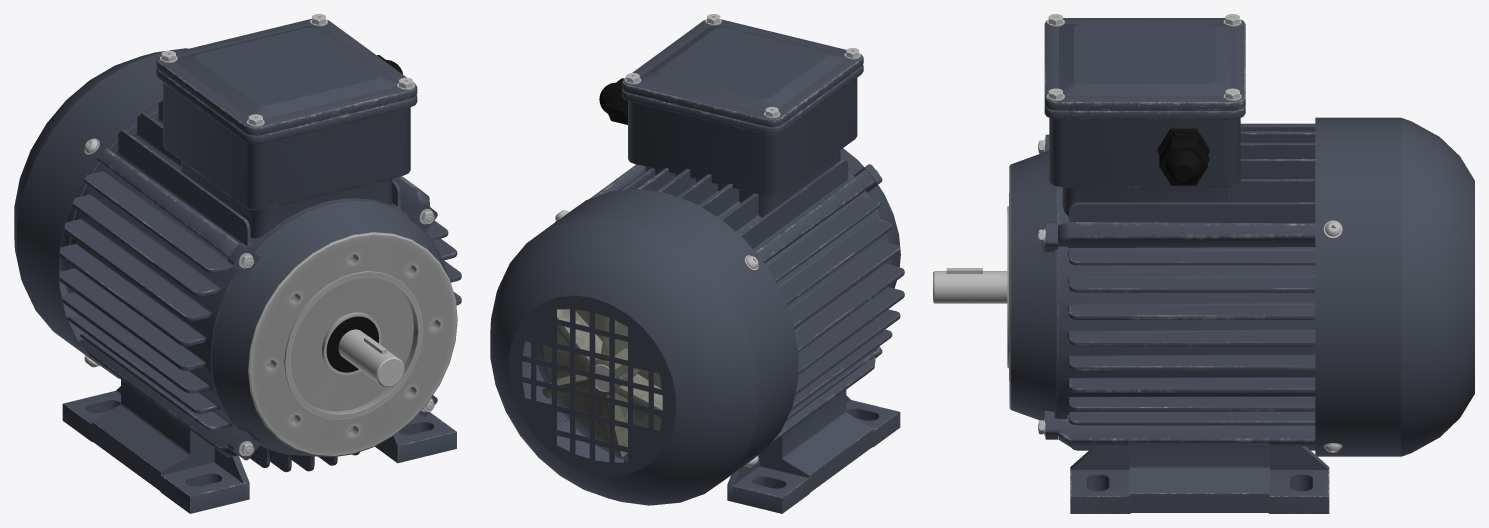
Rendered from electric_motor.glb.
The picture shows the model from 3 angles, left to right: view 1: azimuth 30°, elevation 25°; view 2: azimuth 150°, elevation 25°; view 3: azimuth 270°, elevation 25°; orthographic projection. The views are drawn at different scales.
Visible parts, largest first — view 1: body, closingPart, parts; view 2: closingPart, body, parts; view 3: body, closingPart, parts.
Part boxes in pixels (bbox=[...]): body: bbox=[59, 18, 461, 513]; closingPart: bbox=[14, 48, 457, 460]; parts: bbox=[84, 14, 434, 456]; closingPart: bbox=[490, 148, 900, 505]; body: bbox=[557, 19, 904, 513]; parts: bbox=[542, 14, 879, 467]; body: bbox=[1044, 18, 1329, 513]; closingPart: bbox=[1007, 117, 1474, 456]; parts: bbox=[933, 14, 1342, 452].
Bounding box in the file's own units: 1.25 × 1.6 × 2.
3 materials, 3 textured.
